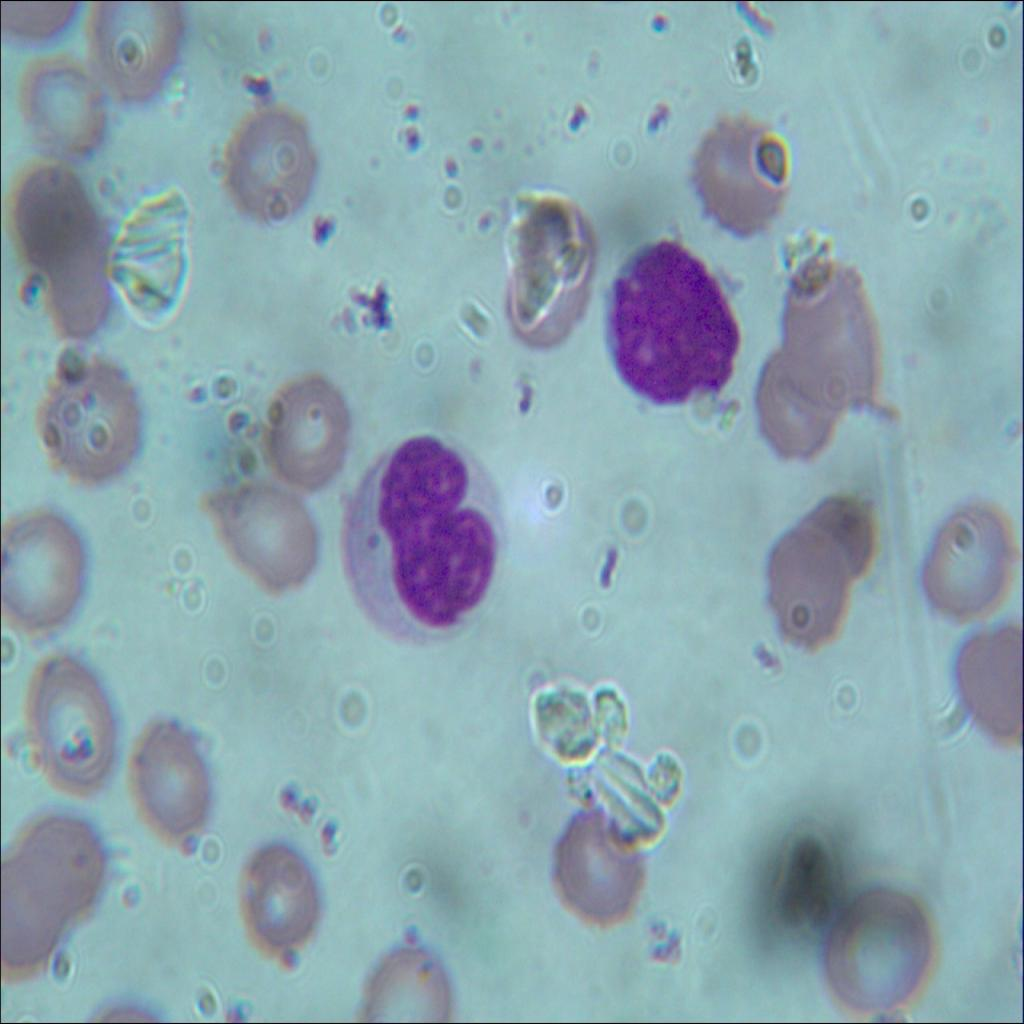Eritrosit: (821, 879, 938, 1019), (483, 198, 595, 342), (34, 371, 175, 484), (684, 111, 795, 254), (240, 365, 358, 492), (218, 92, 326, 222), (793, 260, 881, 417), (913, 500, 1016, 630), (548, 804, 651, 932), (29, 654, 116, 801), (134, 718, 224, 852), (218, 479, 318, 598), (22, 806, 114, 932), (0, 506, 86, 639), (758, 340, 848, 467), (34, 234, 134, 346), (233, 837, 324, 959), (26, 44, 119, 162), (766, 528, 851, 657), (13, 157, 95, 274), (93, 0, 188, 100), (358, 932, 462, 1023), (0, 841, 61, 992), (954, 619, 1023, 740), (801, 495, 881, 583)
Limfoblast: (340, 426, 506, 644), (608, 232, 746, 406)
Platelet: (271, 941, 309, 983), (388, 922, 426, 954), (309, 207, 339, 247), (272, 768, 298, 814), (294, 794, 326, 831), (470, 198, 498, 238), (646, 4, 672, 47), (439, 145, 466, 181), (458, 128, 486, 161), (399, 128, 424, 162), (406, 87, 423, 124)
